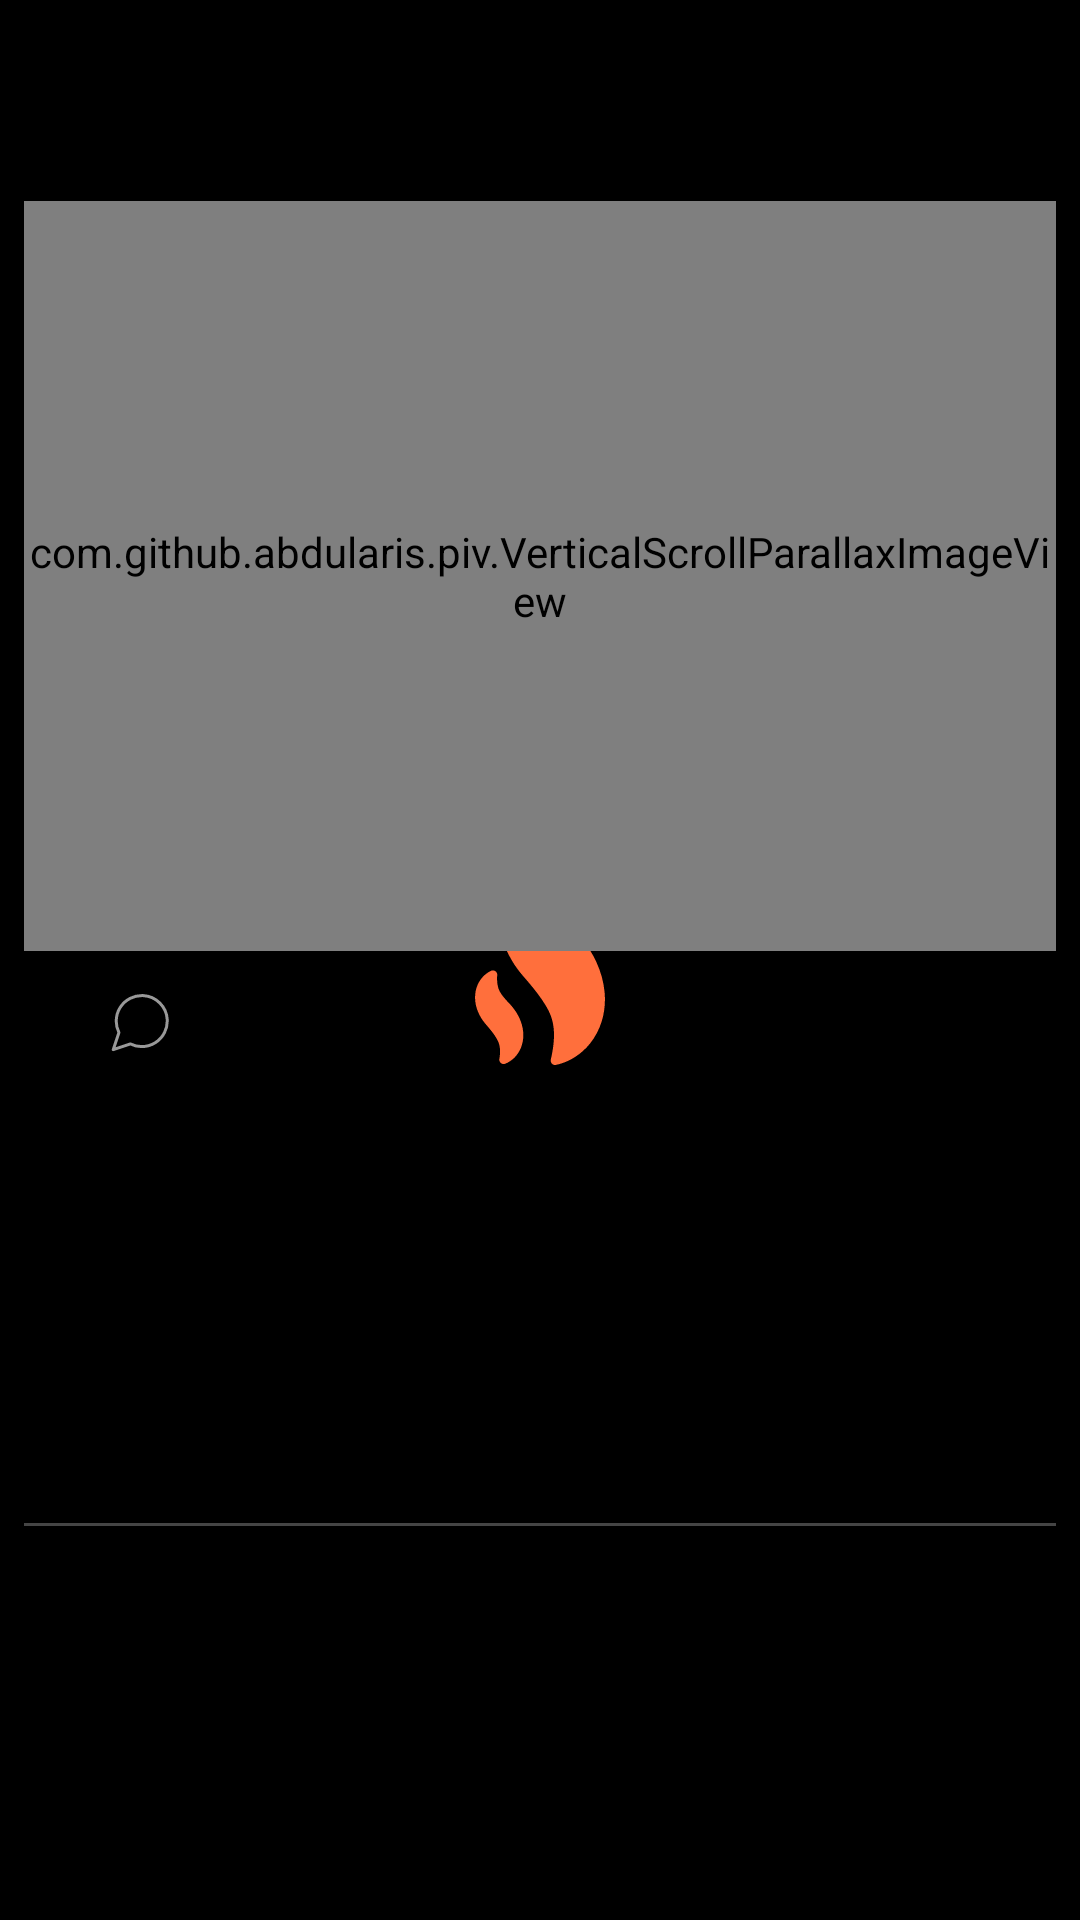

Where icons sit on this 1080*1920 app screen, as (x1, y1, x2, y2):
comment: (111, 994, 169, 1051)
